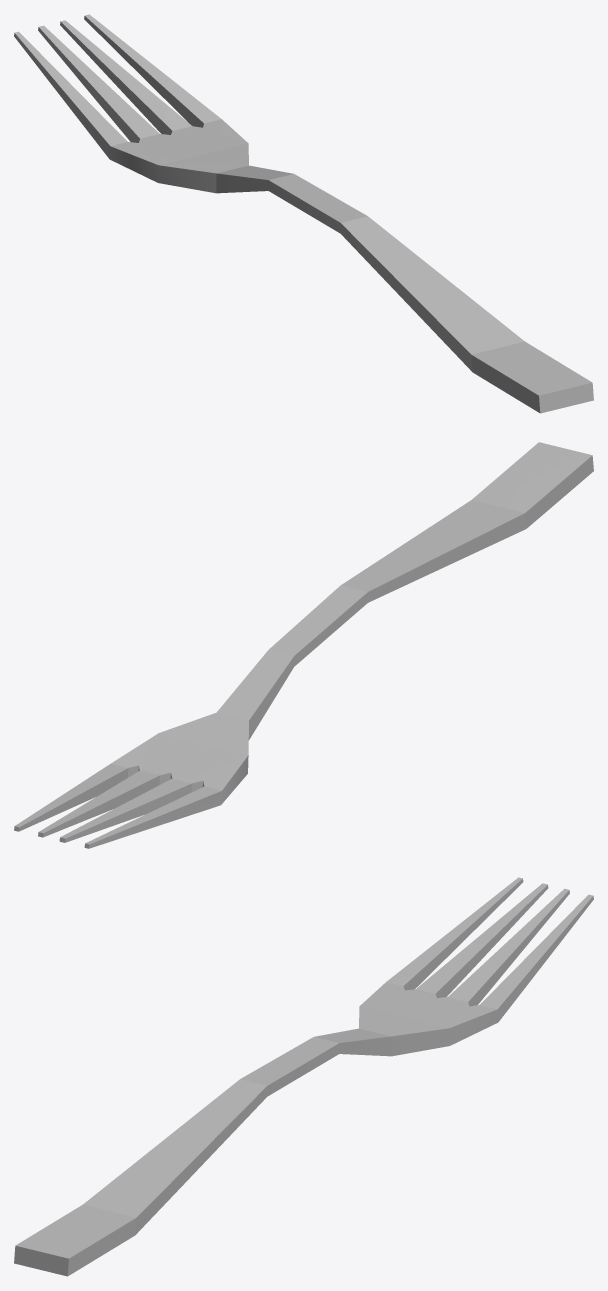
Rendered from fork_001.glb.
3 views of the same model, one above another, from view 1: azimuth 30°, elevation 25°; view 2: azimuth 150°, elevation 25°; view 3: azimuth 330°, elevation 25° (orthographic).
Visible parts, largest first — view 1: fork_001; view 2: fork_001; view 3: fork_001.
Part boxes in pixels (x1=…): fork_001: x1=14, y1=14, x2=593, y2=413; fork_001: x1=14, y1=442, x2=593, y2=848; fork_001: x1=14, y1=877, x2=593, y2=1276.
Size of the model in its own units: 0.0284 by 0.0159 by 0.2273.
1 material, 1 textured.
